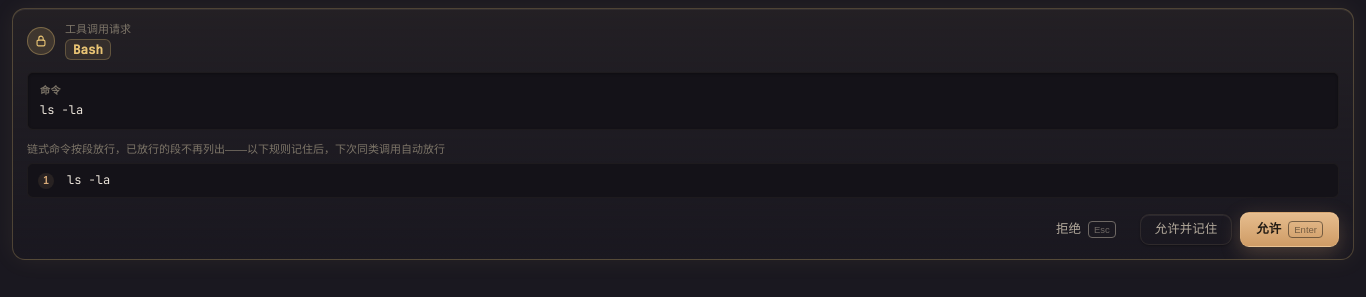
Scenario: PermissionDialog — 允许并记住（多段 + 参数透明化） › 编辑成含控制符的值→行标红、按钮禁用
Replace the text in the field named "规则值" with "ls; rm -rf /". click: [695, 181]
box: 62,170 -> 1328,191
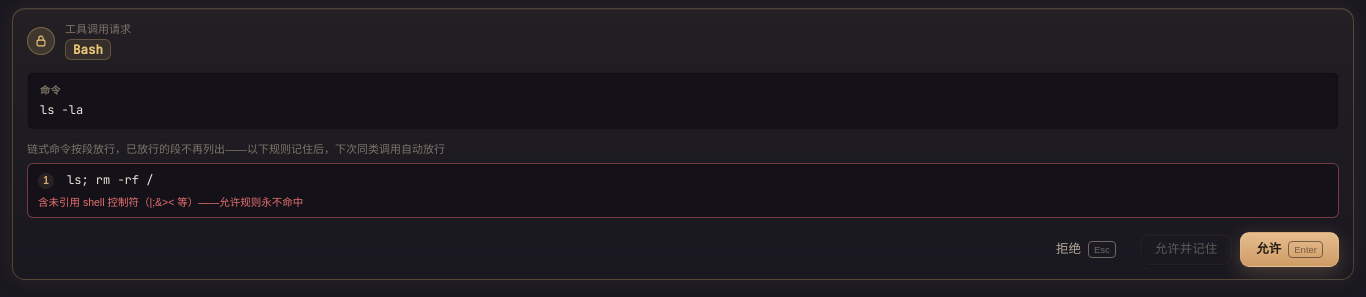
Expected: the text "含未引用 shell 控制符（|;&>< 等）——允许规则永不命中" is shown, 38,196 -> 303,208
Expected: the button "允许并记住" is disabled, 1140,234 -> 1232,265
